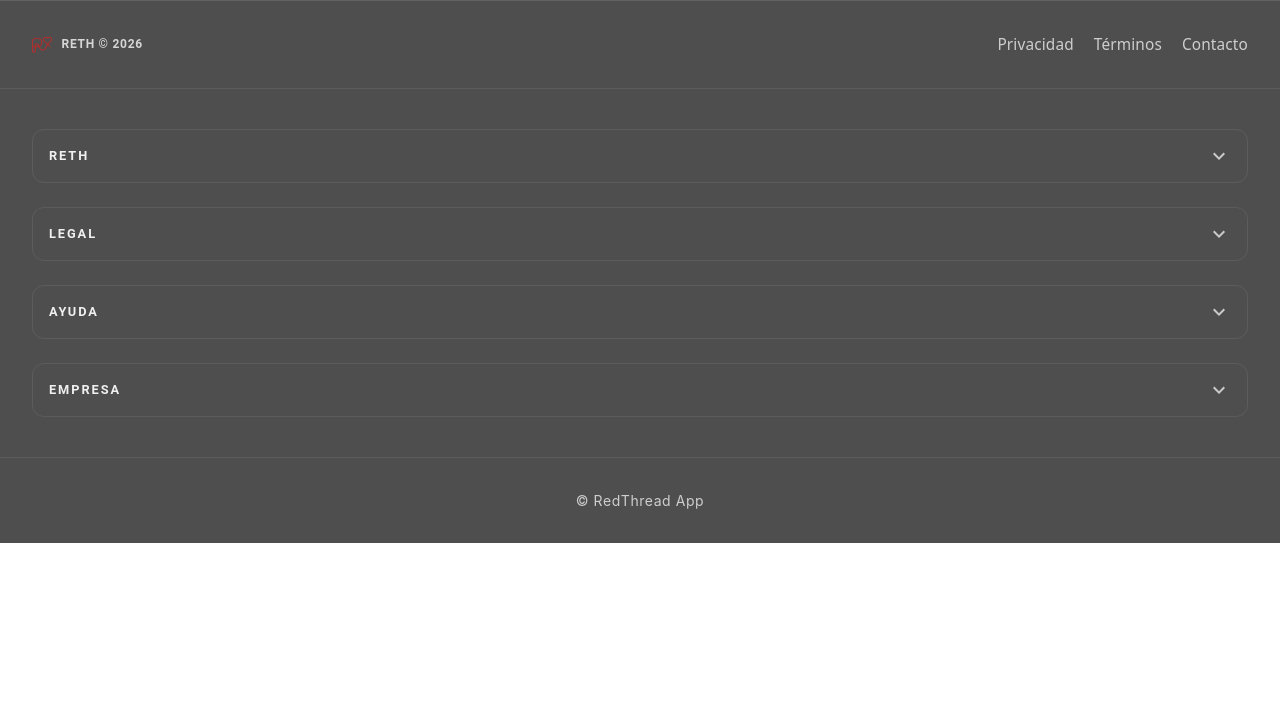
LandingFooter accordion (<1025) › expands a section when its header is clicked
Click the button "LEGAL". click: (73, 233)
box: [33,208,1247,260]
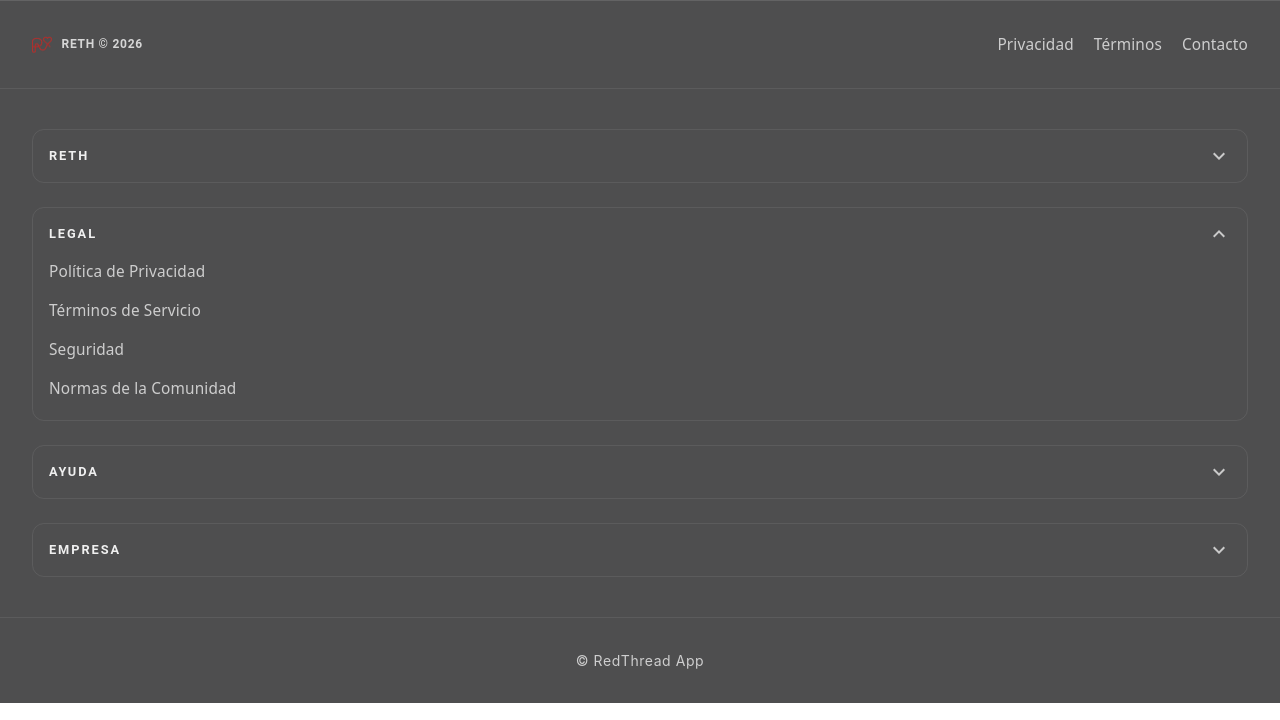
Check: the button "LEGAL" is expanded, box [33,208,1247,260]
Check: the link "Política de Privacidad" is shown, box [49,261,205,282]
